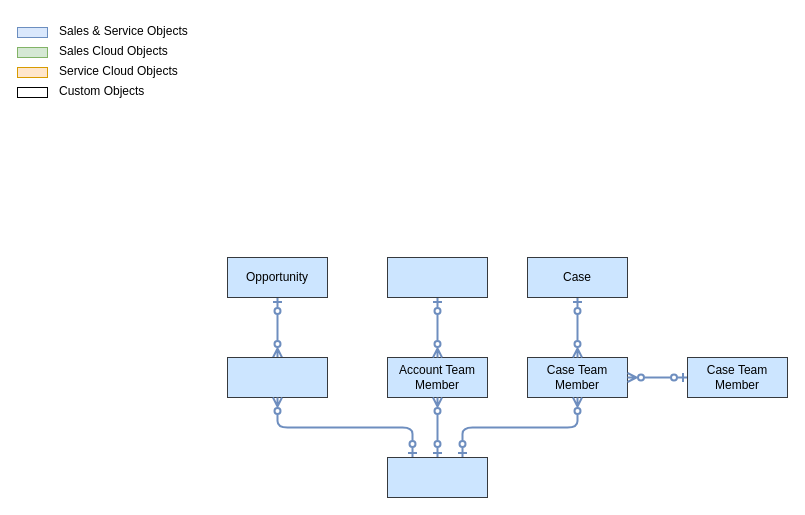
The diagram is 805 pixels wide and 515 high, and some of its shapes have lost their labels. Each missing label, with the box of its shape:
Account: (386, 256, 488, 298)
Opportunity Team Member: (226, 356, 328, 398)
User: (386, 456, 488, 498)
